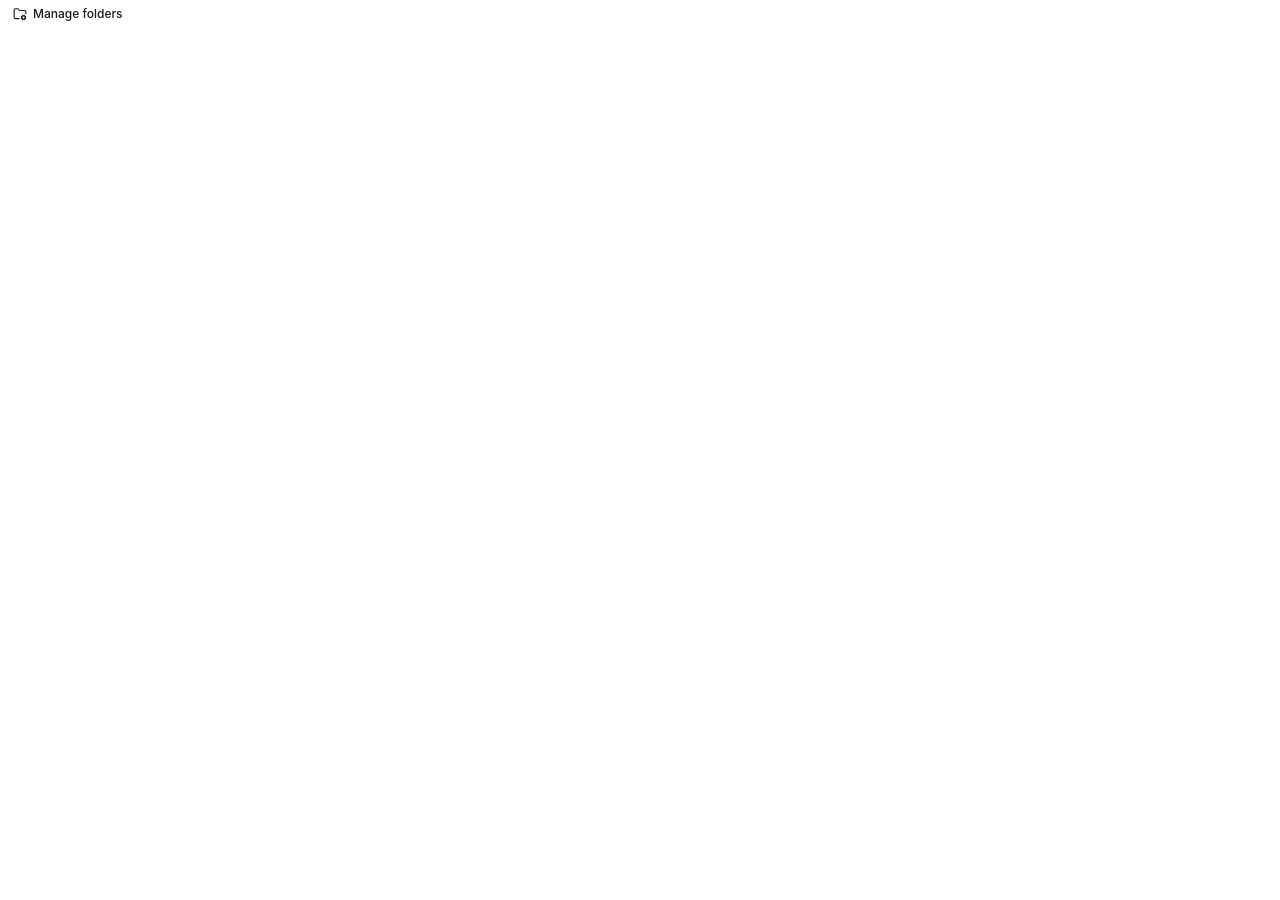
Scenario: folder management › creates beneath the selected account/parent and closes only after success
The width and height of the screenshot is (1280, 900).
Click the button "Manage folders" at (68, 14), box top-left (0, 0), bottom-right (136, 28)
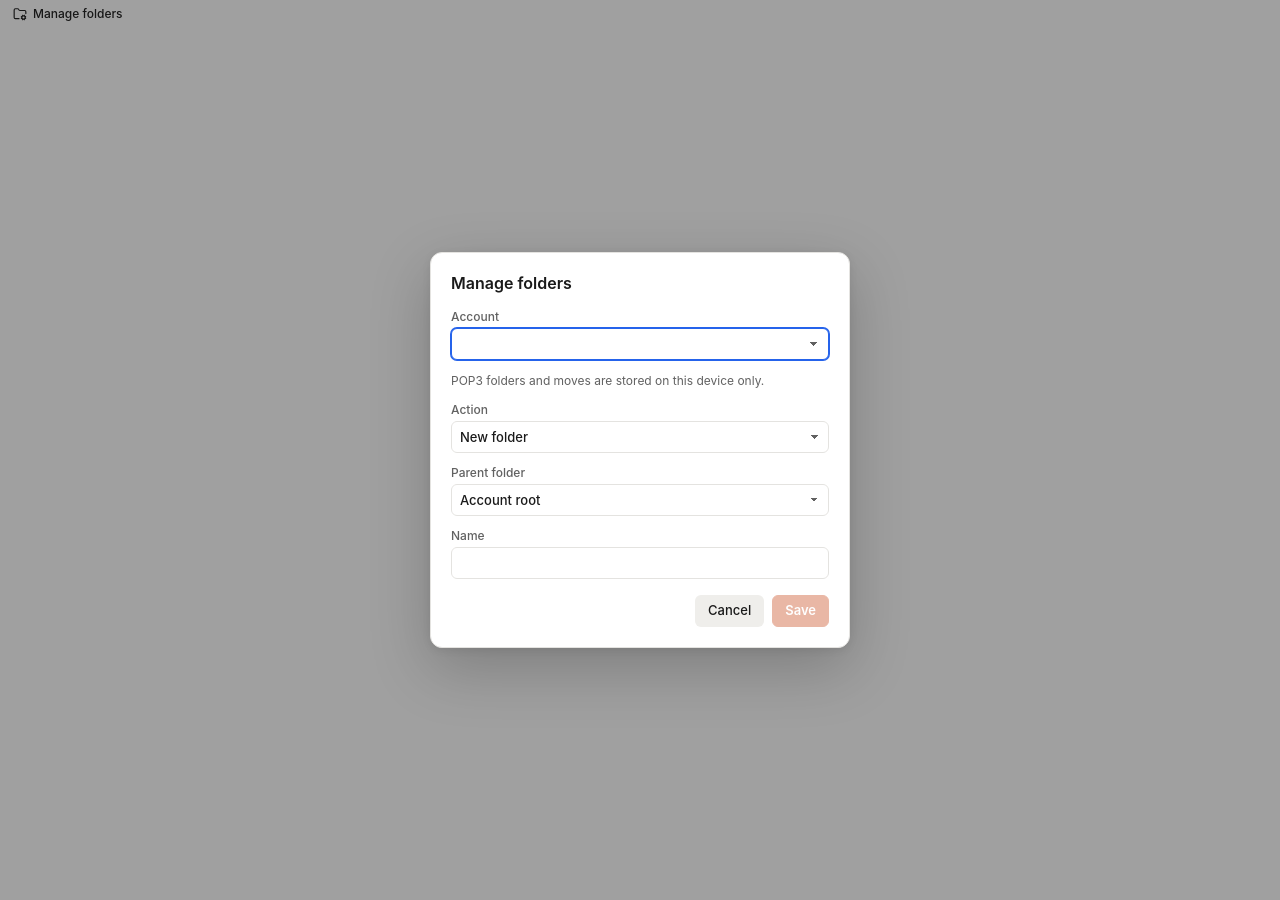
Result: the text "POP3 folders and moves are stored on this device only." is shown at top-left (451, 373), bottom-right (764, 388)
Select "source" in the dropdown labelled "Parent folder" at (640, 500), box top-left (451, 484), bottom-right (829, 516)
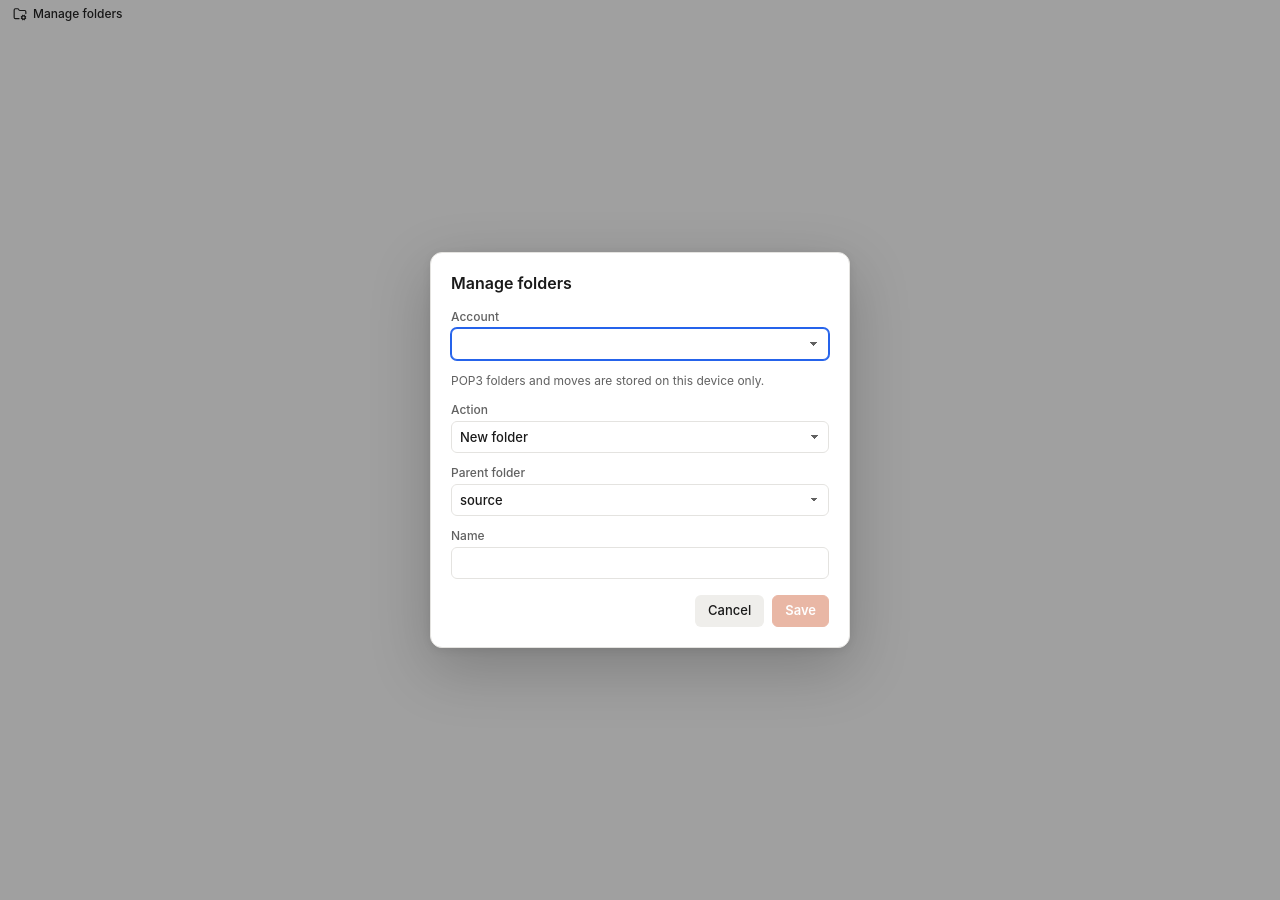
Type "新文件夹" into the field labelled "Name" at (640, 563), box top-left (451, 547), bottom-right (829, 579)
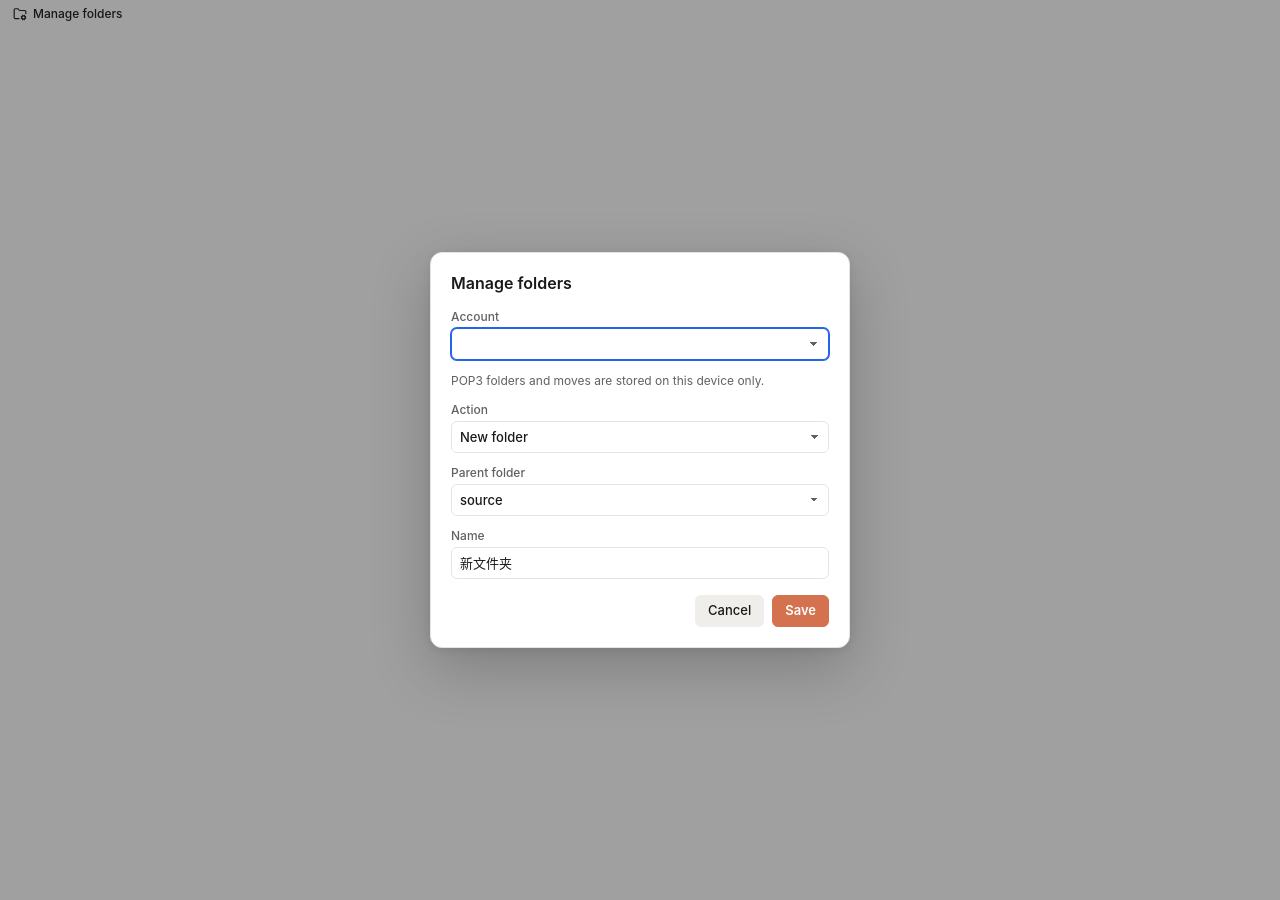
Click the button "Save" at (801, 611), box top-left (772, 595), bottom-right (829, 627)
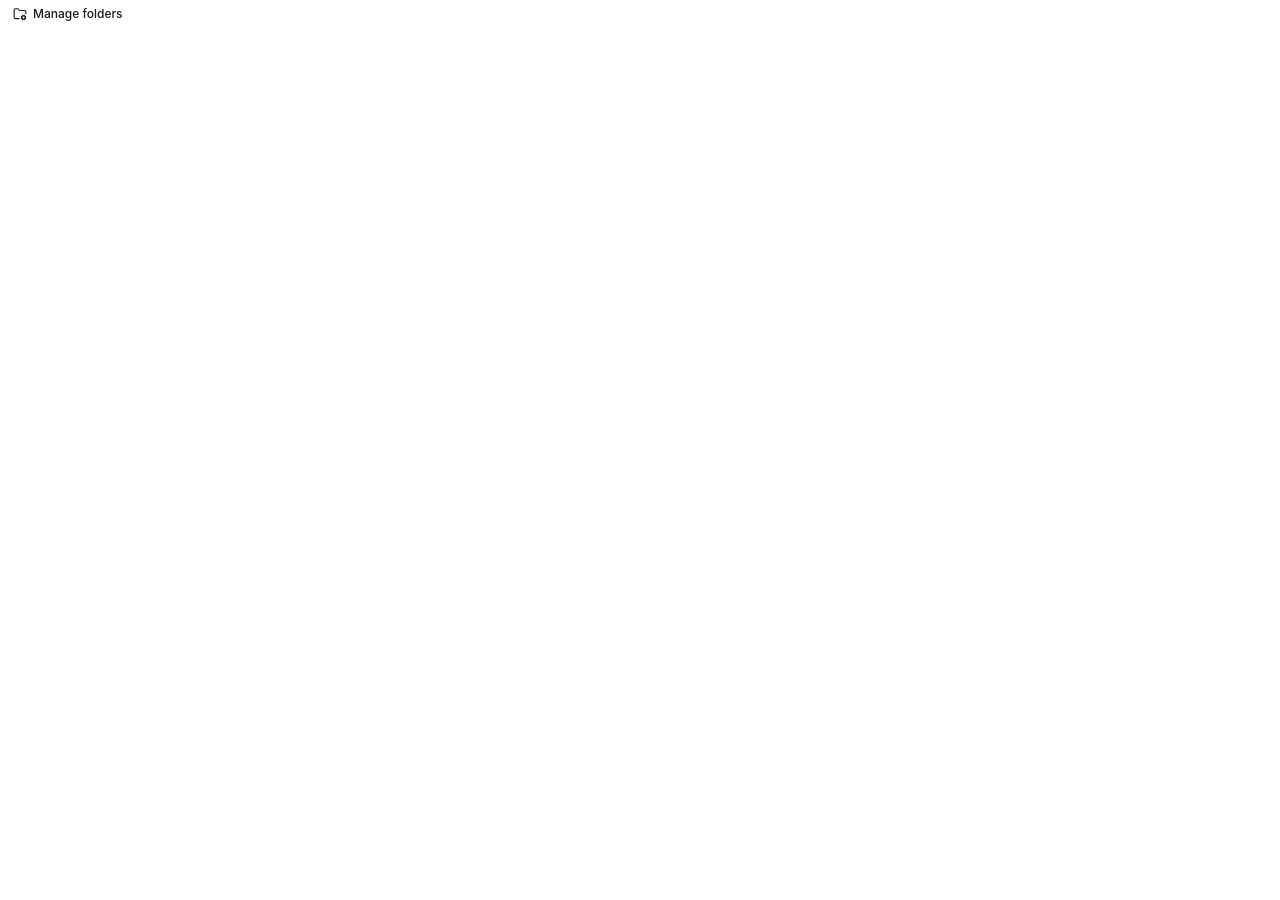
Result: the dialog is gone
